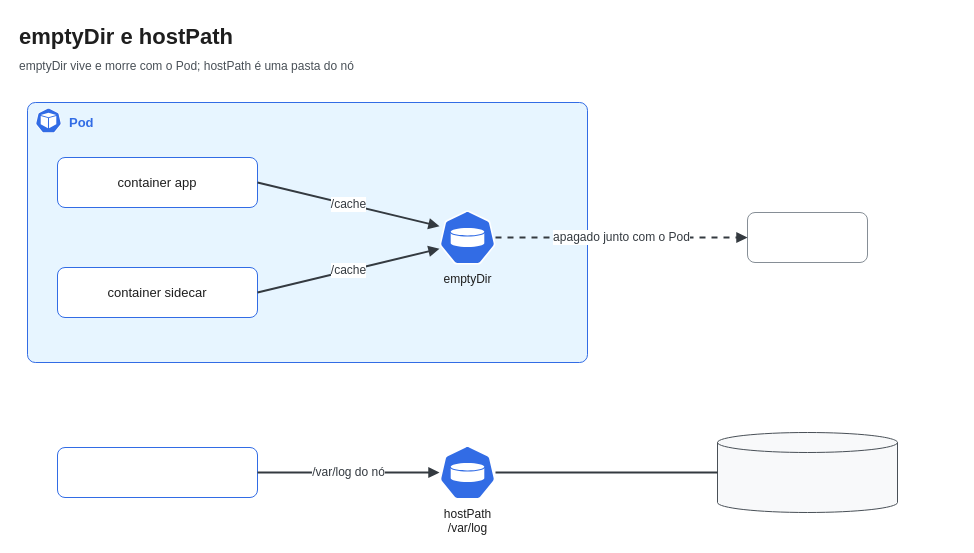
The diagram is 974 pixels wide and 553 high, and some of its shapes have lost their labels. The centre of each missing label's shape, as x and y in pixels:
"container agente" goes at point 157,472.
"disco do nó fica depois do Pod" goes at point 807,472.
"fim" goes at point 807,237.
